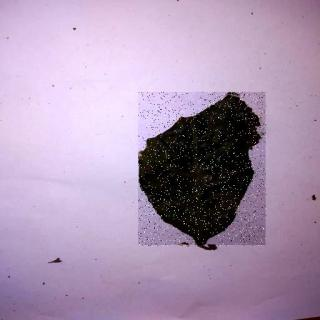Anthracnose: (140, 94, 268, 248)
